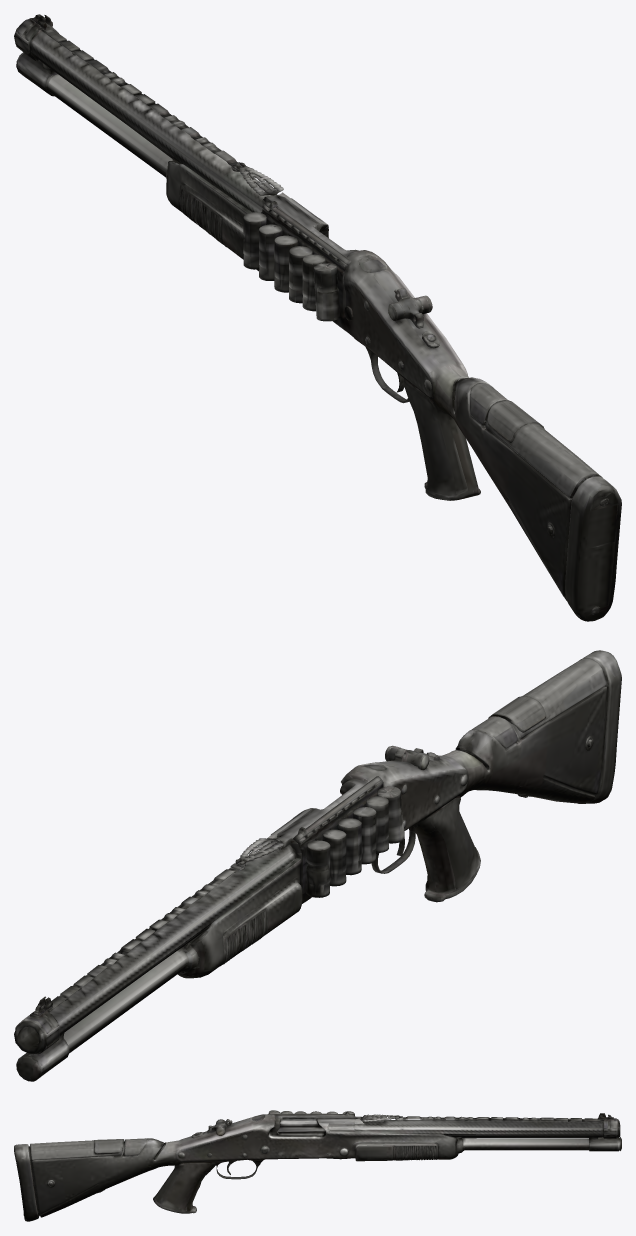
The model's file is inf_shotgun.glb.
The picture shows the model from 3 angles, top to bottom: view 1: azimuth 30°, elevation 25°; view 2: azimuth 150°, elevation 25°; view 3: azimuth 270°, elevation 25°; orthographic projection. The views are drawn at different scales.
Parts seen in each view (by area): view 1: tripo_node_f76eb87a-e4f1-4521-a8b3-d539f9ea039f; view 2: tripo_node_f76eb87a-e4f1-4521-a8b3-d539f9ea039f; view 3: tripo_node_f76eb87a-e4f1-4521-a8b3-d539f9ea039f.
Part boxes in pixels (bbox=[...]): tripo_node_f76eb87a-e4f1-4521-a8b3-d539f9ea039f: bbox=[14, 14, 621, 621]; tripo_node_f76eb87a-e4f1-4521-a8b3-d539f9ea039f: bbox=[14, 650, 621, 1081]; tripo_node_f76eb87a-e4f1-4521-a8b3-d539f9ea039f: bbox=[14, 1110, 621, 1221].
Bounding box in the file's own units: 0.0659 × 0.1939 × 0.9995.
1 material, 1 textured.
